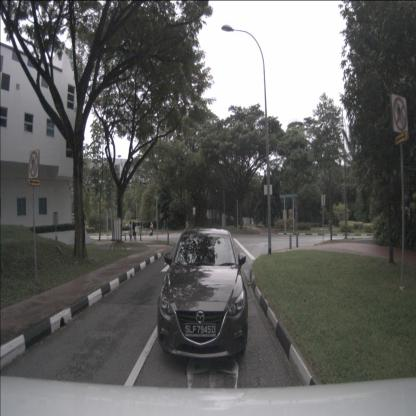human-pedestrian-adult: (128, 221, 132, 243), (132, 221, 136, 243)
vehicle-car: (157, 227, 249, 365)
vehicle-motorcycle: (149, 222, 154, 236)
